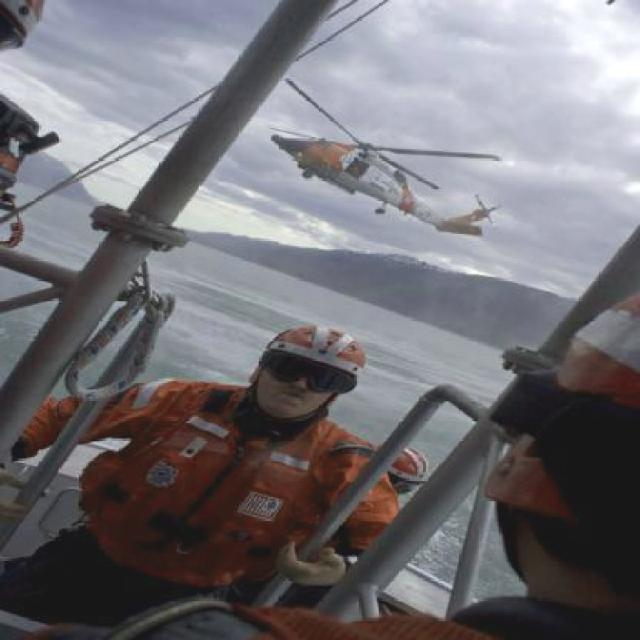glasses: (250, 347, 364, 402)
hand_noglove: (272, 544, 358, 585)
person: (0, 321, 436, 640)
